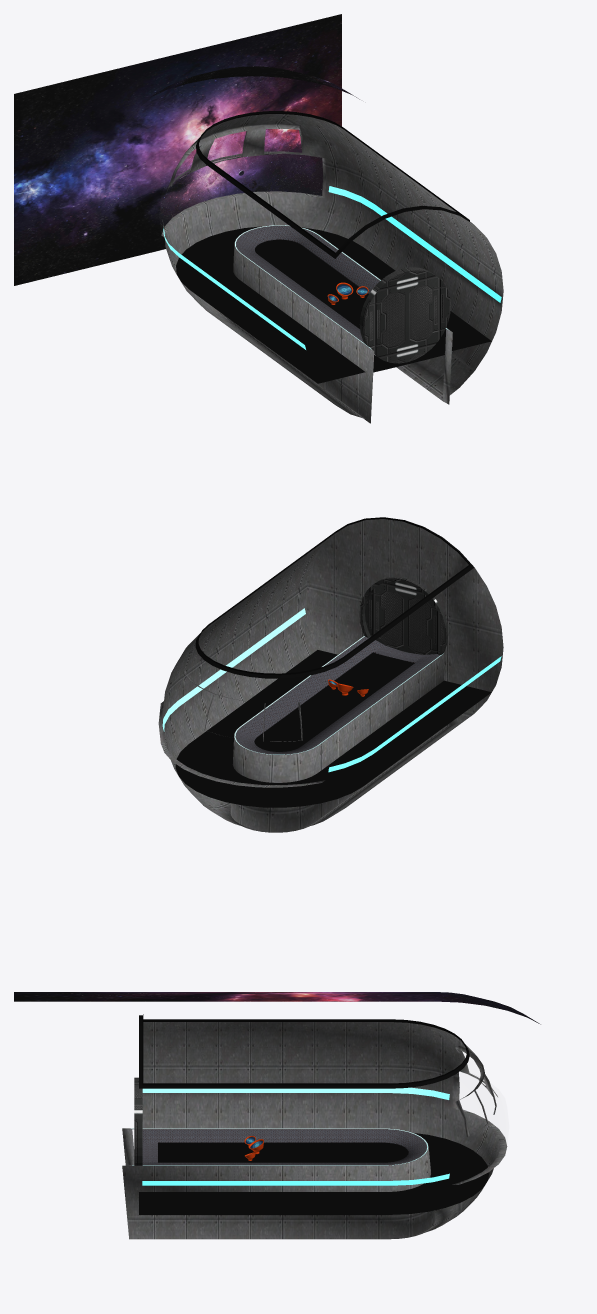
The model's file is SpaceStation.glb.
3 renders of one model, top to bottom at view 1: azimuth 30°, elevation 25°; view 2: azimuth 150°, elevation 25°; view 3: azimuth 270°, elevation 25°, orthographic. The views are drawn at different scales.
Parts seen in each view (by area): view 1: Sci-Fi Space Station; view 2: Sci-Fi Space Station; view 3: Sci-Fi Space Station.
Boxes of the visible parts, x1=… form: Sci-Fi Space Station: x1=14, y1=14, x2=503, y2=423; Sci-Fi Space Station: x1=158, y1=517, x2=503, y2=832; Sci-Fi Space Station: x1=14, y1=992, x2=540, y2=1239.
Size of the model in its own units: 33.37 by 21.69 by 51.23.
Materials: 12 (6 with a texture image).
